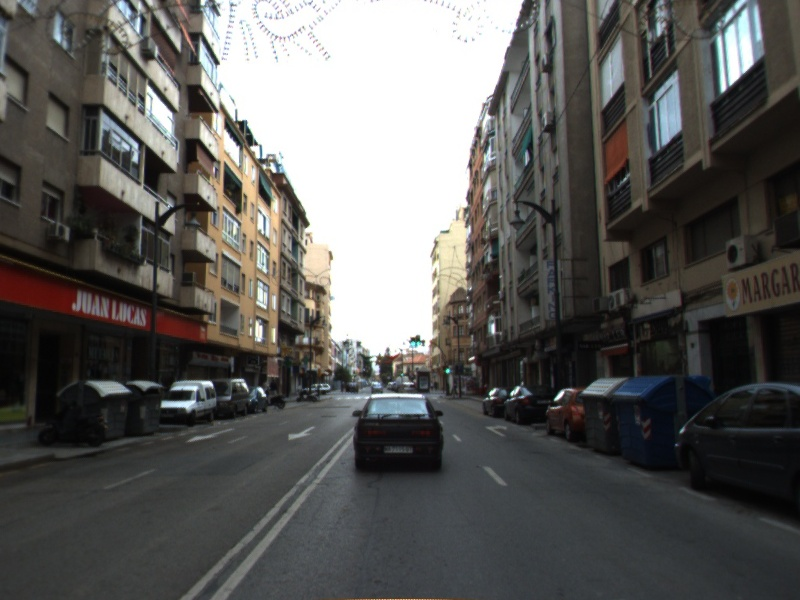RIGHT: (484, 423, 509, 438)
